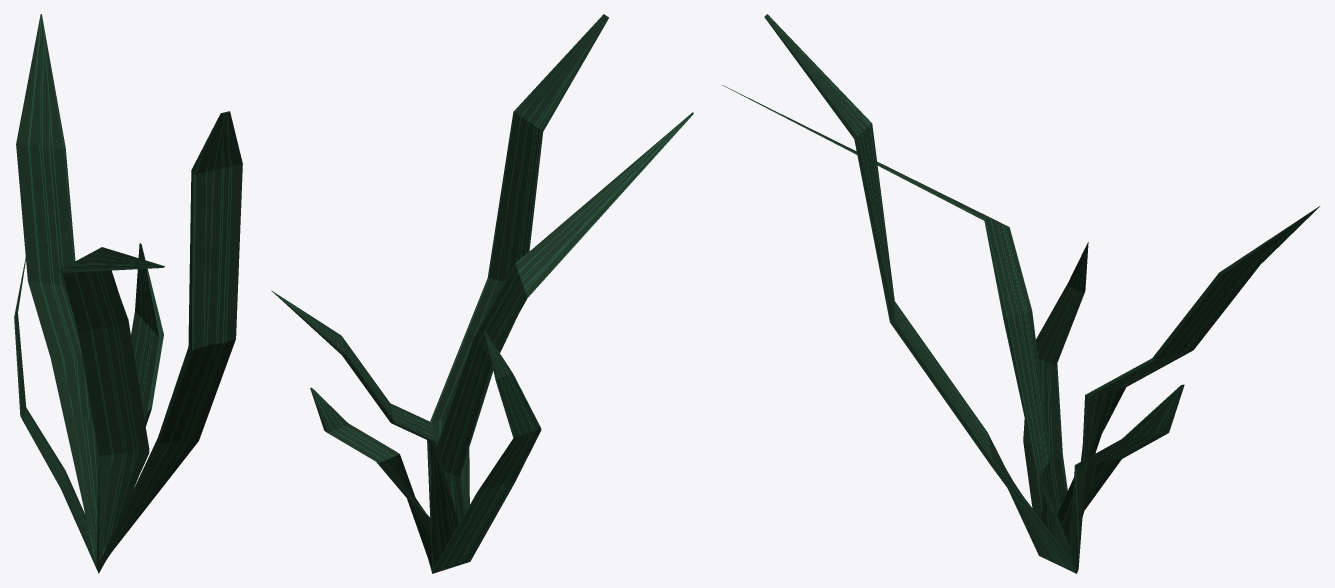
File: erva.fbx
3 renders of one model, left to right at view 1: azimuth 30°, elevation 25°; view 2: azimuth 150°, elevation 25°; view 3: azimuth 270°, elevation 25°, orthographic. The views are drawn at different scales.
Parts seen in each view (by area): view 1: Cube; view 2: Cube; view 3: Cube.
Boxes of the visible parts, x1=… form: Cube: x1=14, y1=14, x2=242, y2=573; Cube: x1=271, y1=14, x2=693, y2=573; Cube: x1=722, y1=14, x2=1319, y2=573.
Size of the model in its own units: 79.85 by 196 by 198.
